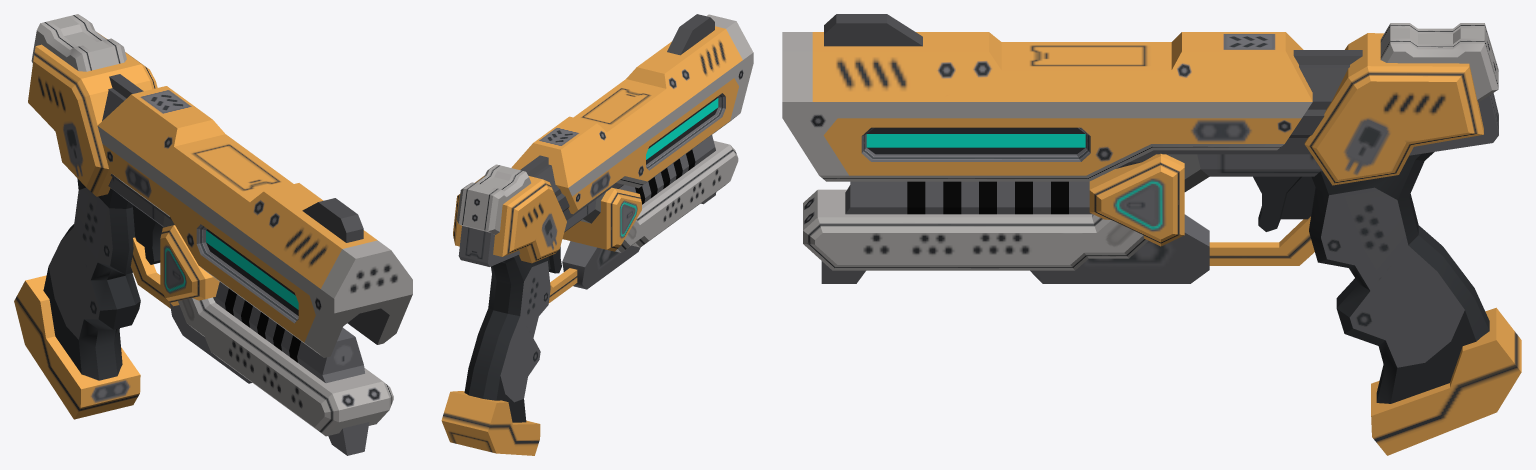
Rendered from SM_Wep_Pistol_01.fbx.
3 renders of one model, left to right at view 1: azimuth 30°, elevation 25°; view 2: azimuth 150°, elevation 25°; view 3: azimuth 270°, elevation 25°, orthographic. The views are drawn at different scales.
Visible parts, largest first — view 1: SM_Wep_Pistol_01; view 2: SM_Wep_Pistol_01; view 3: SM_Wep_Pistol_01.
Boxes of the visible parts, x1,y1,x2,y2 form: SM_Wep_Pistol_01: (14,14,412,455); SM_Wep_Pistol_01: (441,14,753,455); SM_Wep_Pistol_01: (782,14,1521,455).
Bounding box in the file's own units: 6.99 × 31.79 × 50.57.
